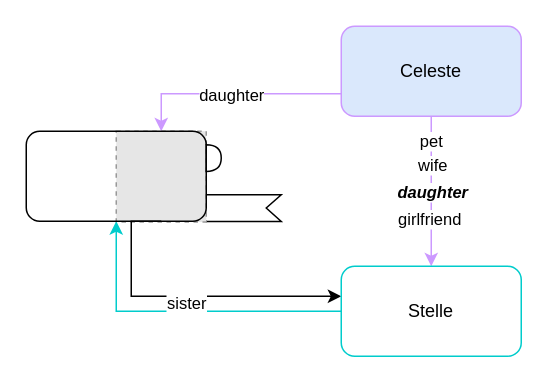
Some shapes in this 548 by 383 pixel diagram are drawn without their labels. Grey dashed boxes stand in for pictures. The shapes that lost their labels are listed below. From the top down, each one's box as (x1, y1, x2, y2) in pixels, then its label:
(25, 130, 206, 221): Emily
(190, 193, 281, 221): cat-like
